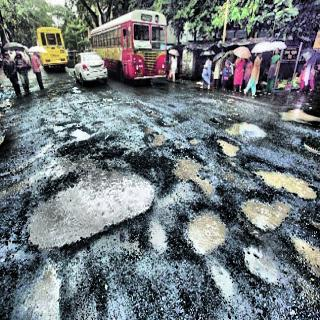pothole: (5, 115, 320, 318)
